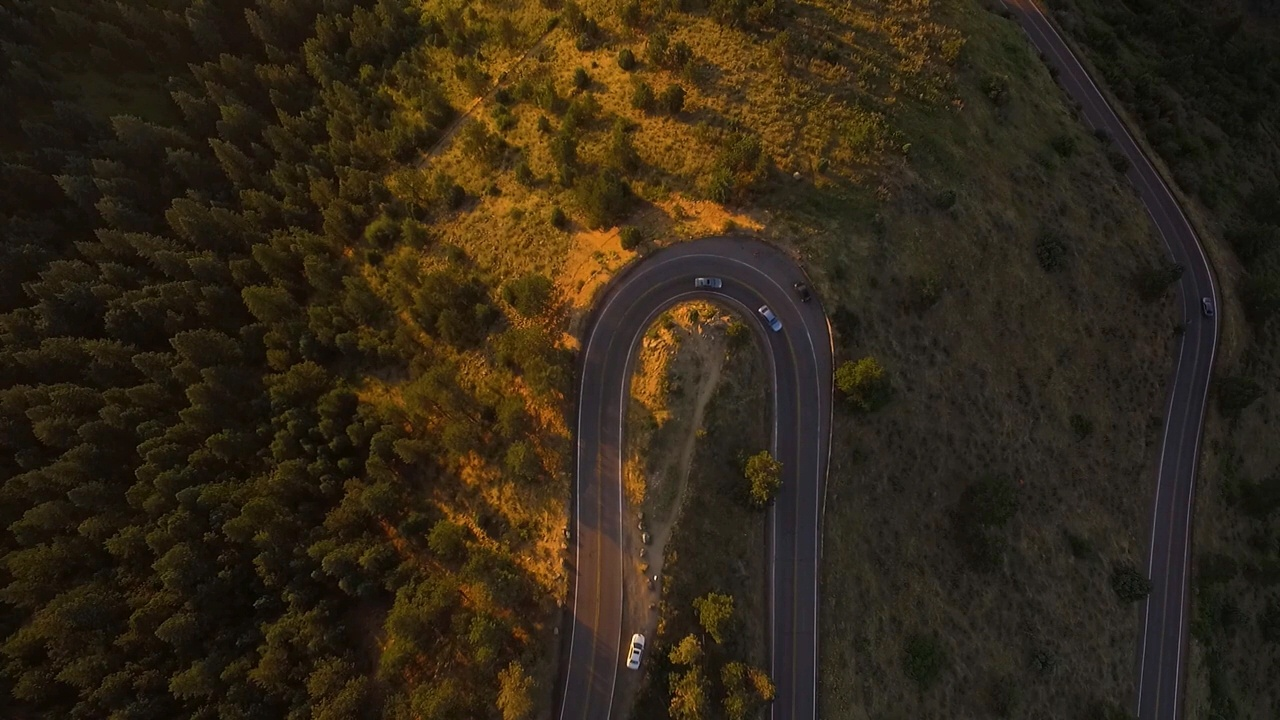araba: (757, 303, 787, 335), (626, 633, 646, 671), (692, 274, 726, 292), (791, 278, 814, 301)
